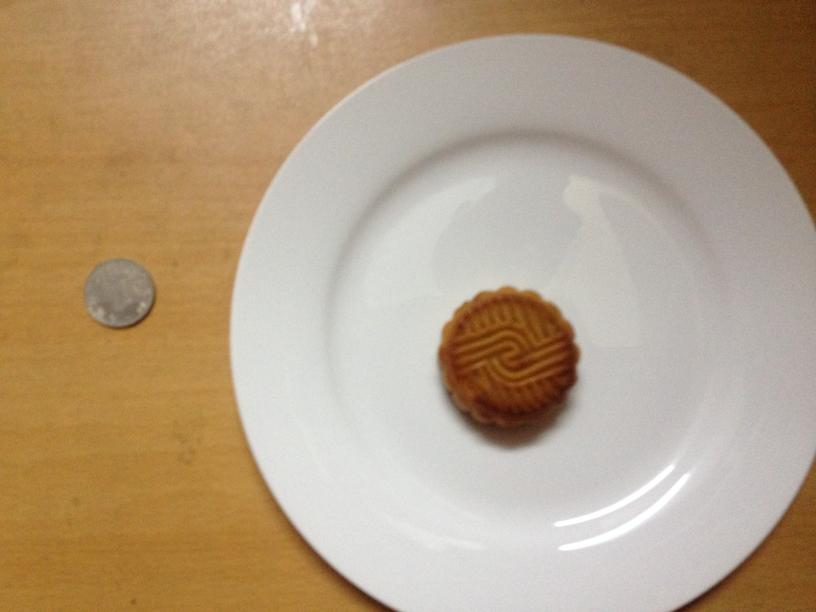coin: (81, 259, 155, 327)
mooncake: (433, 286, 580, 426)
